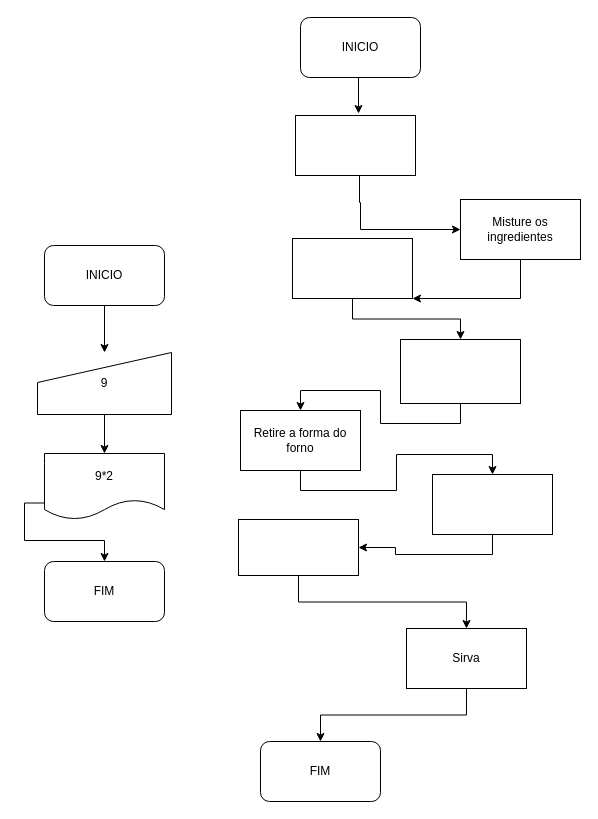
Some shapes in this 598 by 819 pixel diagram are drawn without their labels. The centre of each missing label's shape, as x and y in pixels:
- Providência manteiga, ovos, 2 kg de massa etc.: (355,145)
Deixe esfriar: (492,504)
Despeje a mistura na forma de bolo: (352,268)
Esperar vinte minutos: (460,371)
Prove: (298,547)
